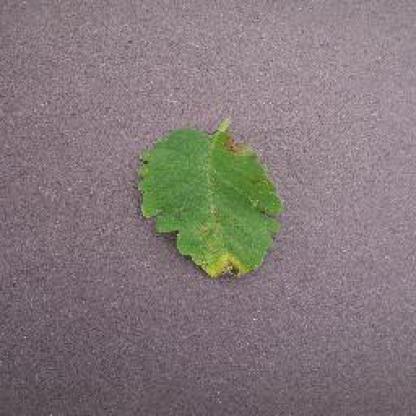bad leaf: (199, 244, 255, 280), (219, 132, 244, 160)
